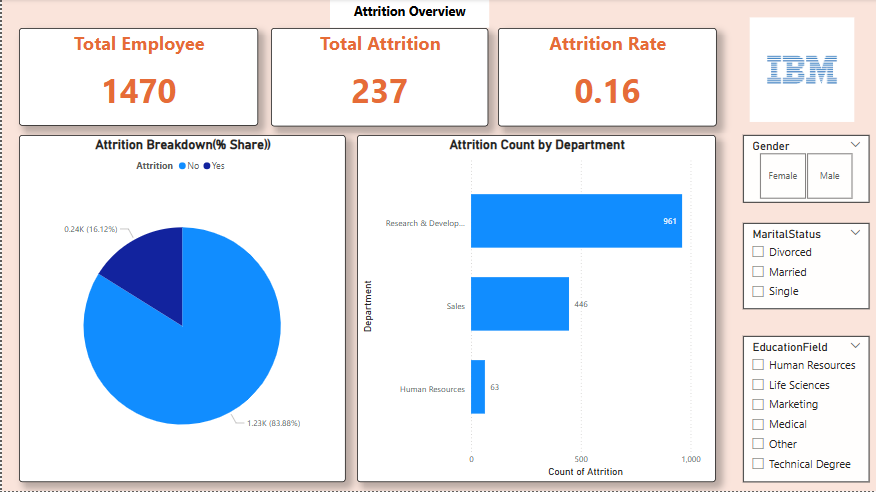

What the dashboard file says about the page in this screenshot:
{"tool":"powerbi","page":{"name":"Attrition Oveview","canvas":[1280,720],"ordinal":0},"visuals":[{"type":"card","title":"Total Employee","fields":{"Values":["clean_employee_attrition.Total_Employees"]},"box":[25.5,42.5,350.2,142.8],"z":0},{"type":"card","title":"Total Attrition","fields":{"Values":["clean_employee_attrition.Total Attrition"]},"box":[394.4,42.5,317.9,144.5],"z":1000},{"type":"card","title":"Attrition Rate","fields":{"Values":["clean_employee_attrition.Attrition Rate"]},"box":[725.8,42.5,319.6,144.5],"z":2000},{"type":"pieChart","title":"Attrition Breakdown(% Share))","fields":{"Category":["clean_employee_attrition.Attrition"],"Y":["CountNonNull(clean_employee_attrition.Attrition)"]},"box":[25.5,198.9,477.7,508.3],"z":3000},{"type":"barChart","title":" Attrition Count by Department","fields":{"Category":["clean_employee_attrition.Department"],"Y":["CountNonNull(clean_employee_attrition.Attrition)"]},"box":[520.2,198.9,525.3,508.3],"z":4000},{"type":"slicer","fields":{"Values":["clean_employee_attrition.Gender"]},"box":[1084.5,198.9,185.3,98.6],"z":5000},{"type":"slicer","fields":{"Values":["clean_employee_attrition.MaritalStatus"]},"box":[1084.5,328.1,185.3,125.8],"z":6000},{"type":"slicer","fields":{"Values":["clean_employee_attrition.EducationField"]},"box":[1084.5,493,185.3,214.2],"z":7000},{"type":"textbox","box":[479.4,0,232.9,42.5],"z":8000},{"type":"image","box":[1070.9,22.1,198.9,163.2],"z":9000}]}

Visuals, with their boxes in screenshot pixels (x1, y1, x2, y2), scaled from the page's 1280x720 canvas onto the 876x492 screenshot:
"Total Employee" card: bbox=(17, 29, 257, 127)
"Total Attrition" card: bbox=(270, 29, 487, 128)
"Attrition Rate" card: bbox=(497, 29, 715, 128)
"Attrition Breakdown(% Share))" pieChart: bbox=(17, 136, 344, 483)
" Attrition Count by Department" barChart: bbox=(356, 136, 716, 483)
slicer - clean_employee_attrition.Gender: bbox=(742, 136, 869, 203)
slicer - clean_employee_attrition.MaritalStatus: bbox=(742, 224, 869, 310)
slicer - clean_employee_attrition.EducationField: bbox=(742, 337, 869, 483)
textbox: bbox=(328, 0, 487, 29)
image: bbox=(733, 15, 869, 127)
